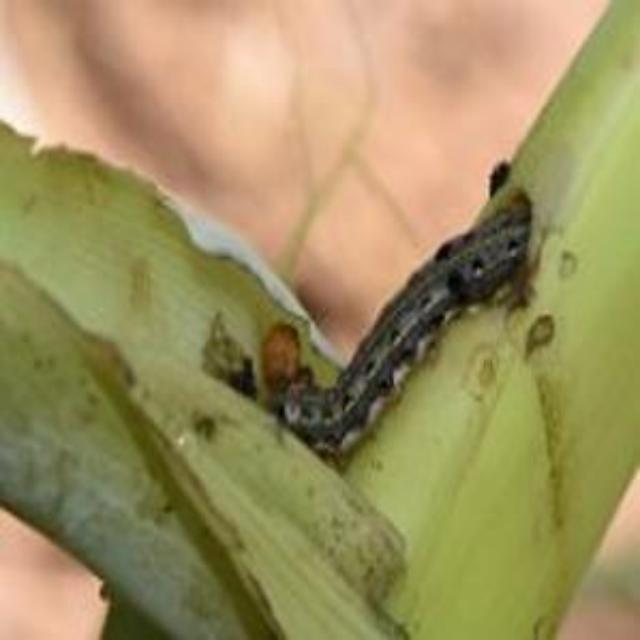Tobacco cutworm: (154, 112, 570, 514)
